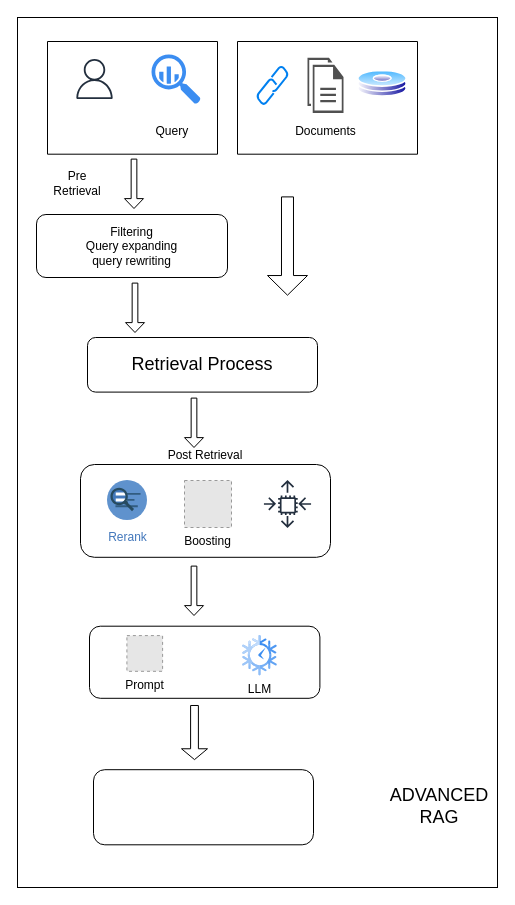
Image size: 515x905. Some labels were removed from this diagram. Grey dashed boxes stand in for pictures. The centre of each missing label's shape, as x and y in pixels:
"Expand chunks" belongs at pixel 287 503.
"output / answer" belongs at pixel 203 807.
"User" belongs at pixel 94 78.
